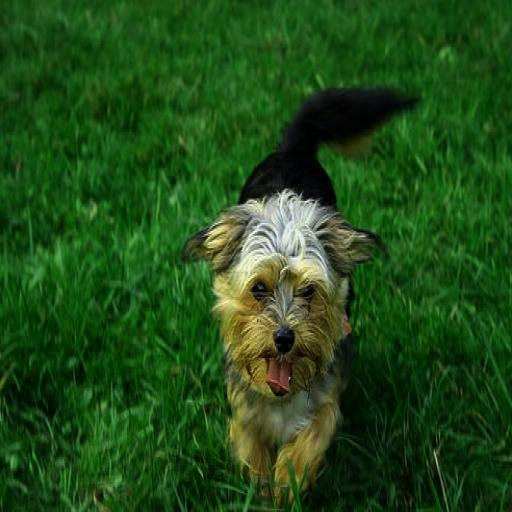dog_face: (189, 204, 370, 401)
